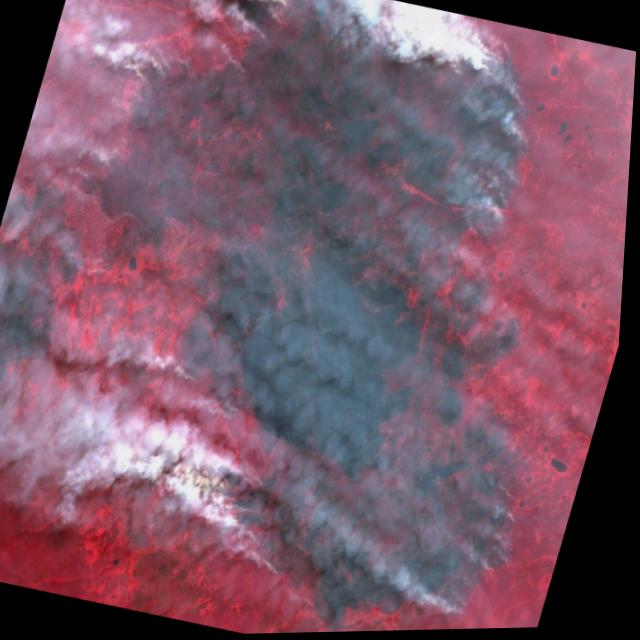fire: (69, 0, 575, 300), (189, 437, 326, 585), (0, 397, 16, 474)
